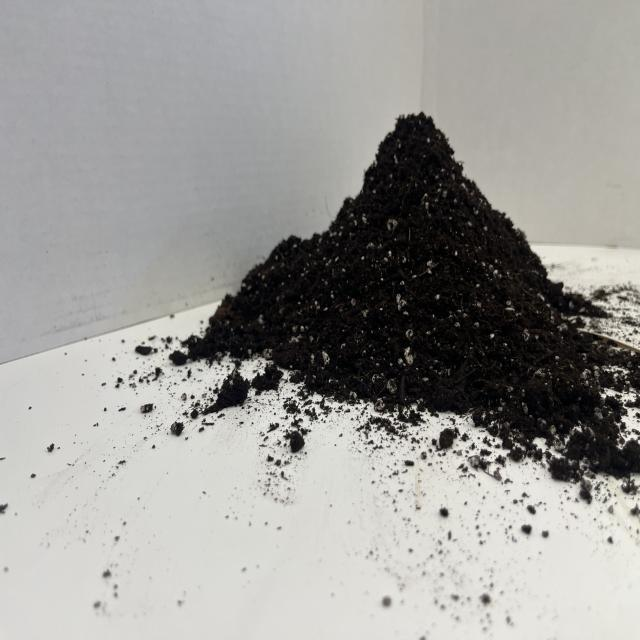soil: (173, 109, 638, 484)
